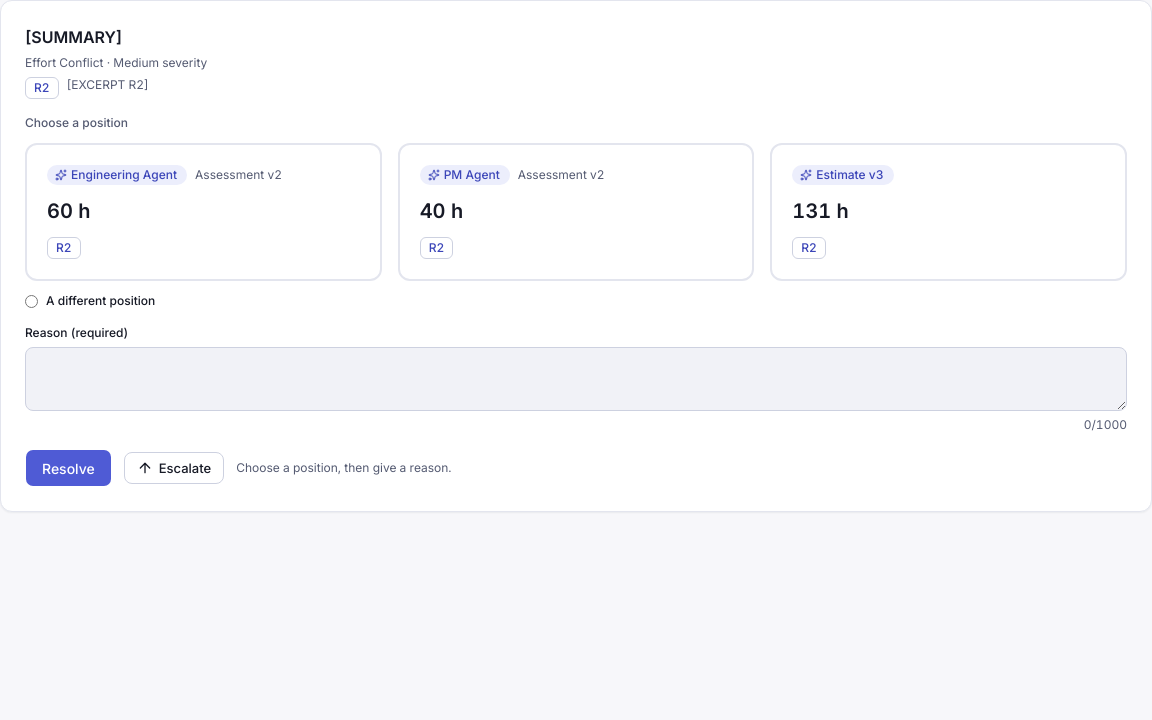
Scenario: resolving a Conflict › says what choosing an agent's position does to the Estimate line
Expected: the text "Choosing an agent's position sets the Estimate line to the agents' total, 100 h." is not shown
Click the radio button labelled "Engineering Agent Assessment v2 60 h R2": (117, 175) left=25, top=143, right=382, bottom=281
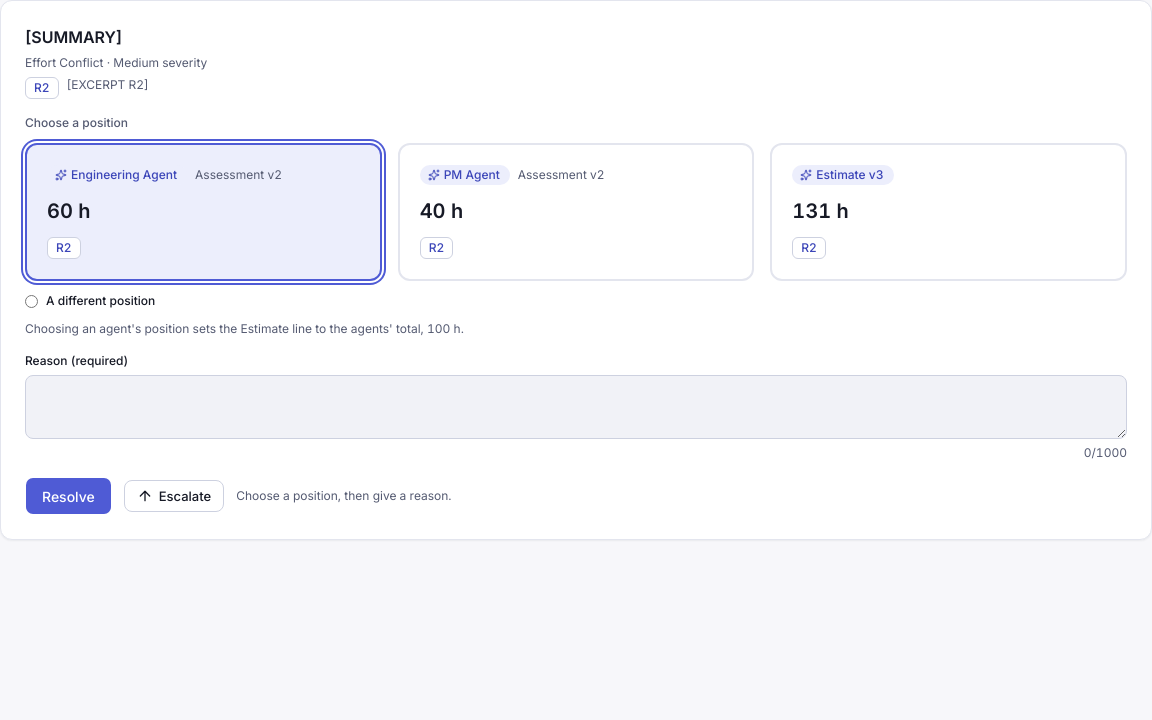
Result: the text "Choosing an agent's position sets the Estimate line to the agents' total, 100 h." is shown at left=25, top=321, right=464, bottom=336
Click the radio button labelled "PM Agent Assessment v2 40 h R2": (465, 175) left=398, top=143, right=754, bottom=281
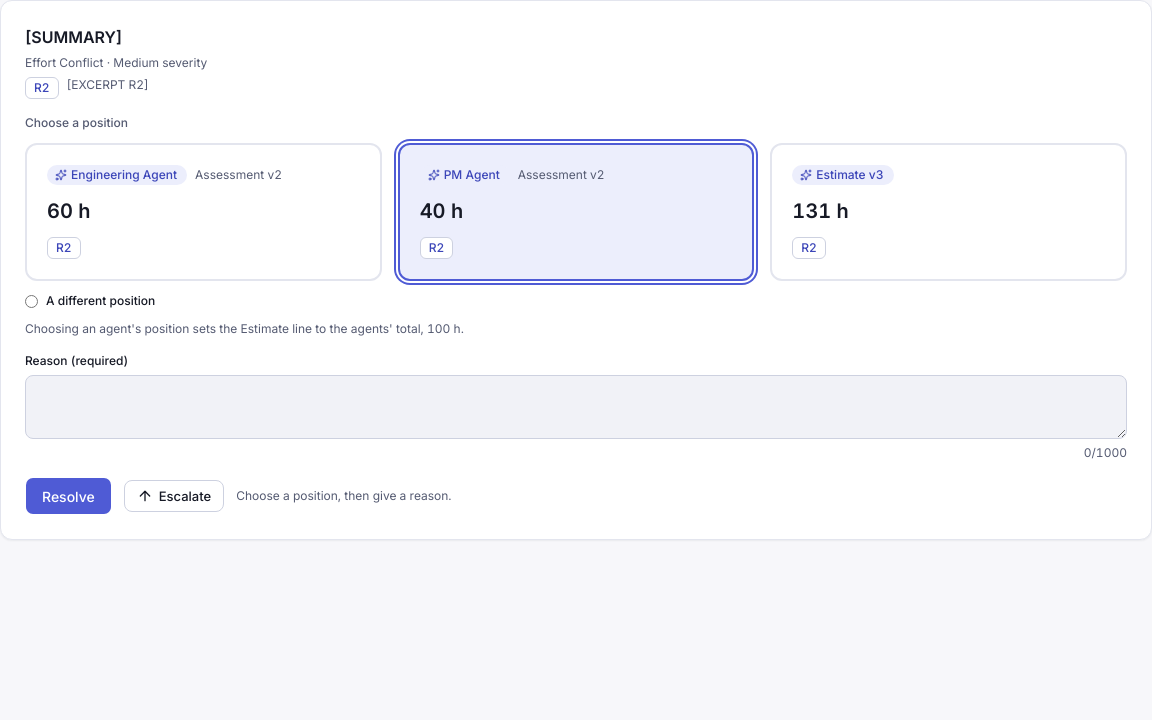
Result: the text "Choosing an agent's position sets the Estimate line to the agents' total, 100 h." is shown at left=25, top=321, right=464, bottom=336
Click the radio button labelled "Estimate v3 131 h R2": (843, 175) left=770, top=143, right=1127, bottom=281
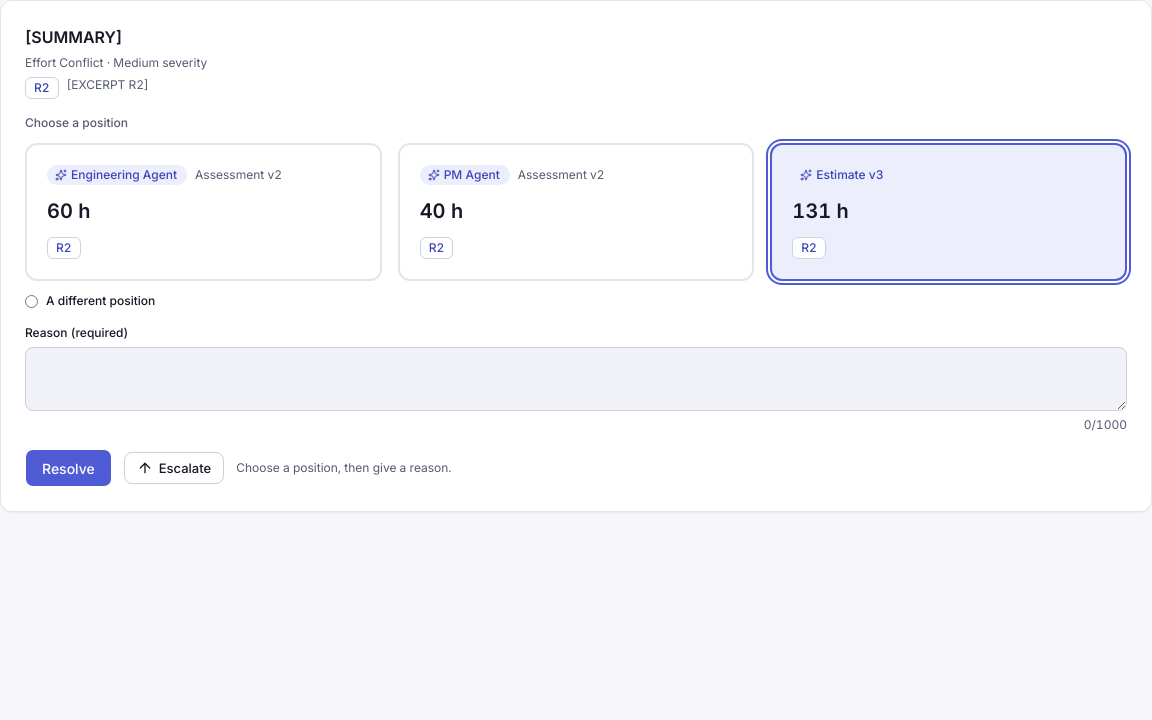
Result: the text "Choosing an agent's position sets the Estimate line to the agents' total, 100 h." is gone
